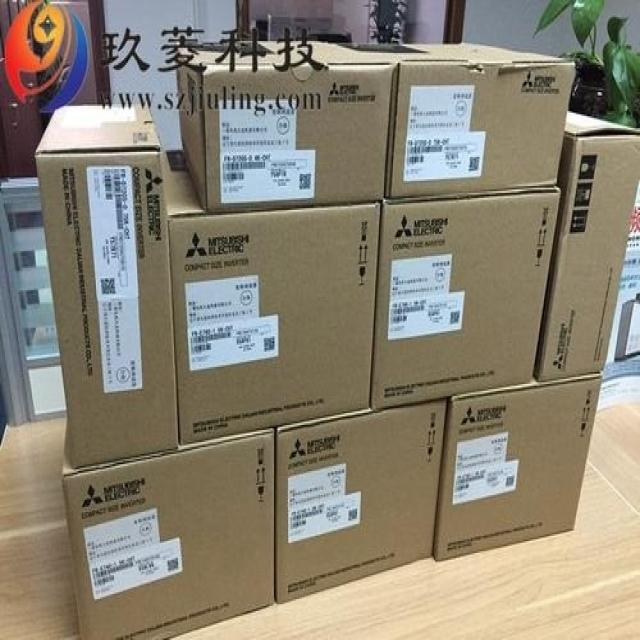box: (164, 148, 379, 442), (36, 104, 179, 468), (60, 425, 274, 640), (371, 188, 561, 410), (335, 41, 576, 196), (174, 41, 397, 208), (275, 399, 445, 604), (434, 374, 605, 561), (532, 109, 640, 381)
